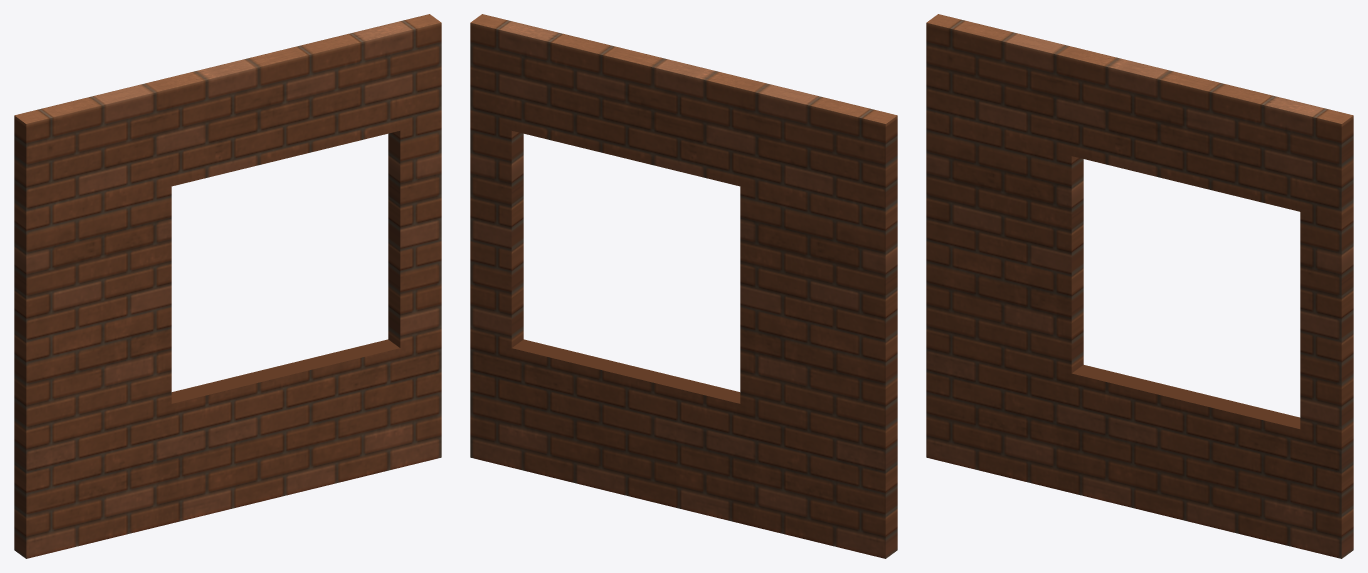
File: wall5_5.fbx
3 views of the same model, side by side, from view 1: azimuth 30°, elevation 25°; view 2: azimuth 150°, elevation 25°; view 3: azimuth 330°, elevation 25° (orthographic).
Visible parts, largest first — view 1: wall5_brick_red_e; view 2: wall5_brick_red_e; view 3: wall5_brick_red_e.
Boxes of the visible parts, x1,y1,x2,y2 form: wall5_brick_red_e: (14,14,441,558); wall5_brick_red_e: (470,14,897,558); wall5_brick_red_e: (926,14,1353,558).
Bounding box in the file's own units: 400 × 400 × 20.
